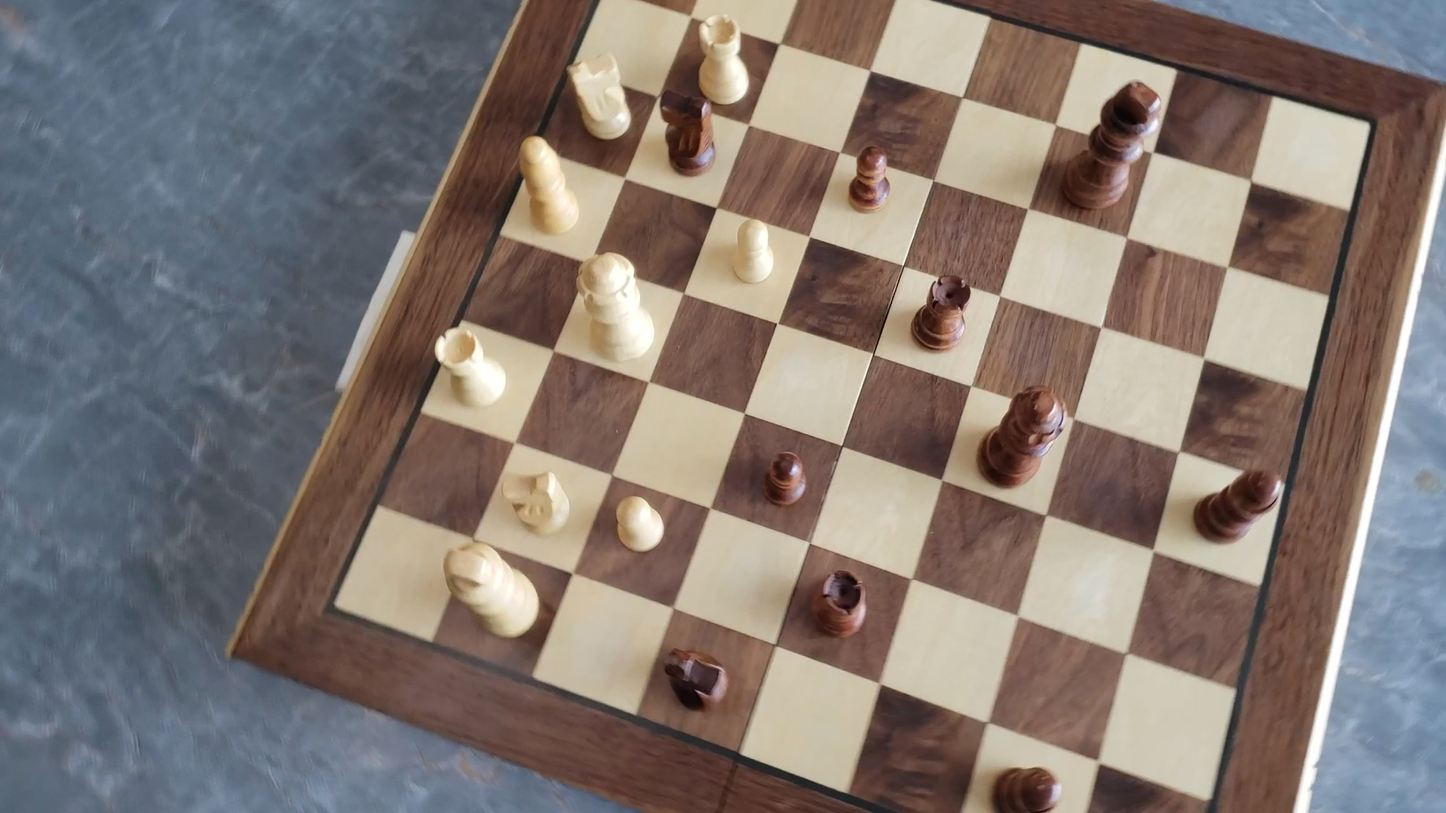black-bishop: (1173, 453, 1292, 548), (988, 763, 1065, 813)
black-king: (1057, 77, 1166, 212)
black-knight: (646, 631, 746, 720), (658, 89, 718, 177)
black-pawn: (846, 139, 894, 215), (761, 448, 809, 510)
black-queen: (971, 375, 1065, 509)
black-rook: (910, 273, 975, 352), (811, 567, 871, 641)
white-bishop: (513, 132, 584, 239)
white-king: (437, 540, 543, 641)
white-knight: (493, 462, 573, 551), (565, 49, 635, 143)
white-pawn: (725, 212, 783, 289), (611, 491, 669, 556)
white-queen: (571, 248, 661, 367)
white-rook: (430, 323, 511, 412), (692, 10, 752, 109)
